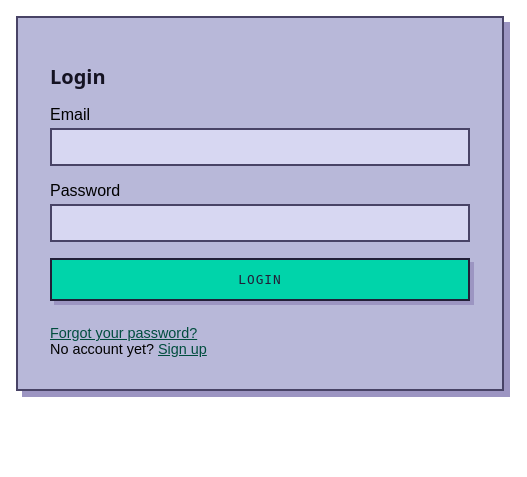
Scenario: LoginPage › shows the reason when login is rejected, and stays put
Type "someone@example.com" into the field labelled "Email" at (260, 147), box top-left (50, 128), bottom-right (470, 166)
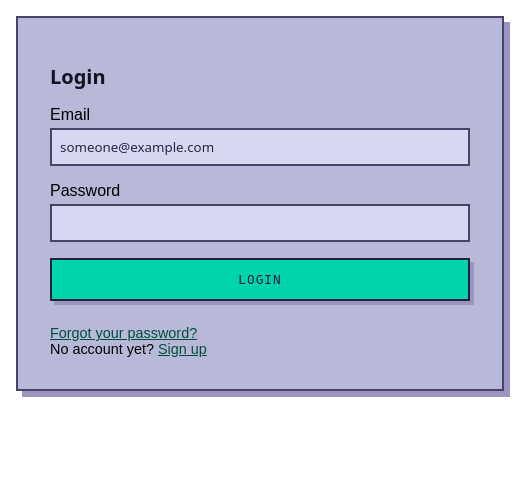
Type "correct-horse" into the password field labelled "Password" at (260, 223), box top-left (50, 204), bottom-right (470, 242)
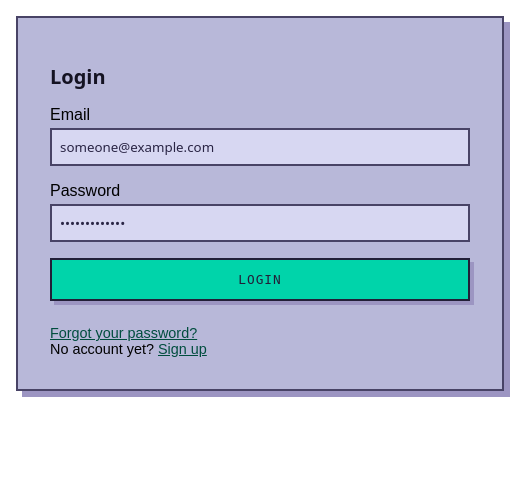
Click the button "Login" at (260, 280), box top-left (50, 258), bottom-right (470, 301)
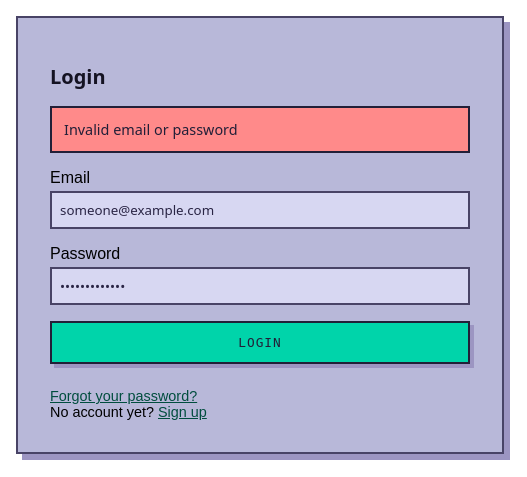
Result: the text "Invalid email or password" is shown at top-left (50, 106), bottom-right (470, 153)
